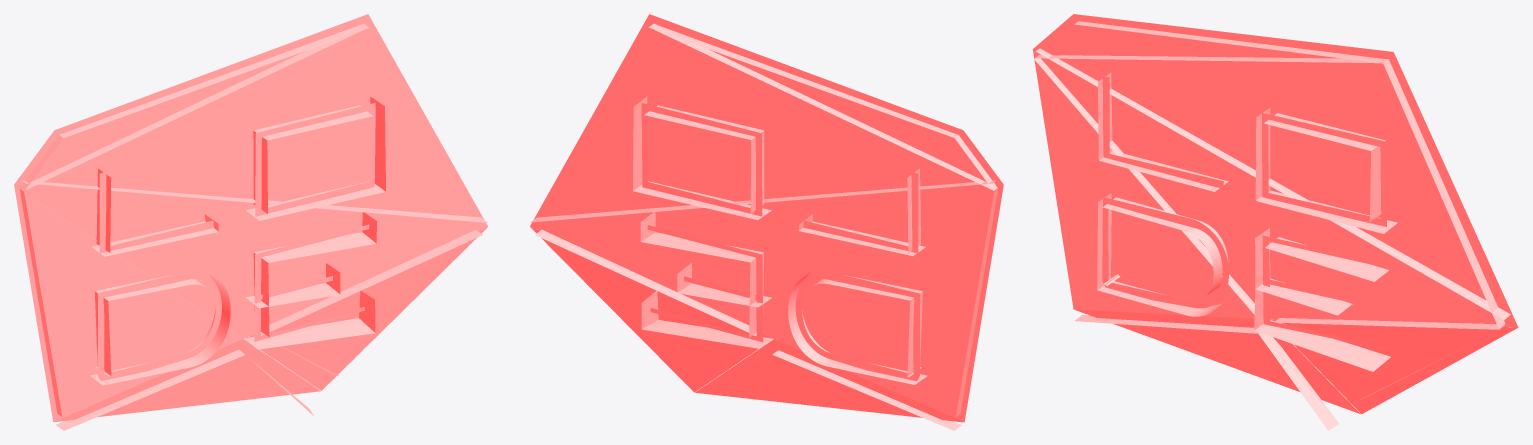
File: GLTFTEST_05.gltf
3 views of the same model, side by side, from view 1: azimuth 30°, elevation 25°; view 2: azimuth 150°, elevation 25°; view 3: azimuth 330°, elevation 25° (orthographic).
Parts seen in each view (by area): view 1: Extrude (Copy); view 2: Extrude (Copy); view 3: Extrude (Copy).
Part boxes in pixels (x1,y1,x2,y2): Extrude (Copy): (14, 14, 487, 430); Extrude (Copy): (530, 14, 1003, 430); Extrude (Copy): (1032, 14, 1518, 430).
Bounding box in the file's own units: 33.84 × 26.06 × 3.
